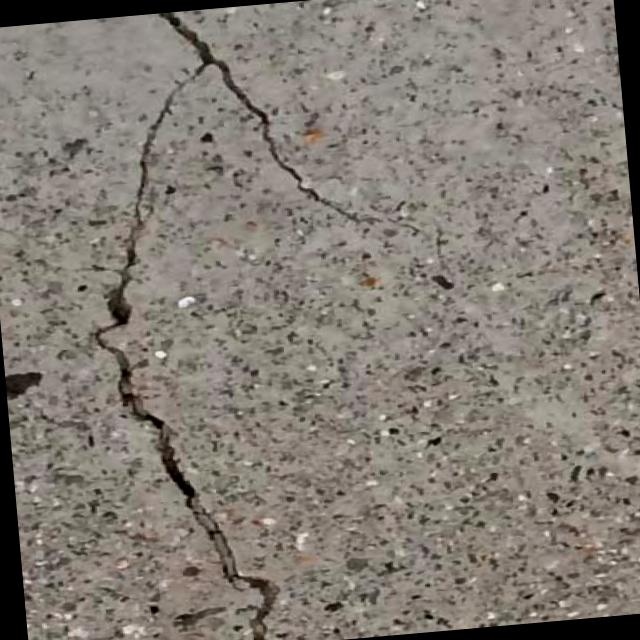crack: (65, 108, 285, 640), (151, 0, 453, 323)
